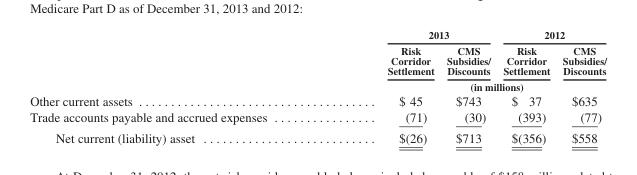table: (29, 28, 606, 144)
table column: (29, 28, 326, 144), (326, 28, 439, 144), (496, 28, 555, 144), (439, 28, 496, 144), (555, 28, 606, 144)
table column header: (29, 28, 606, 93)
table row: (29, 42, 606, 78), (29, 108, 606, 126), (29, 126, 606, 144), (29, 78, 606, 93), (29, 93, 606, 108), (29, 28, 606, 42)
table spanning cell: (326, 78, 606, 93), (326, 28, 496, 42), (496, 28, 606, 42)
